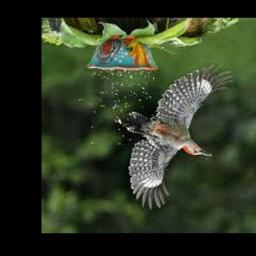Woodpecker: (120, 67, 234, 209)
